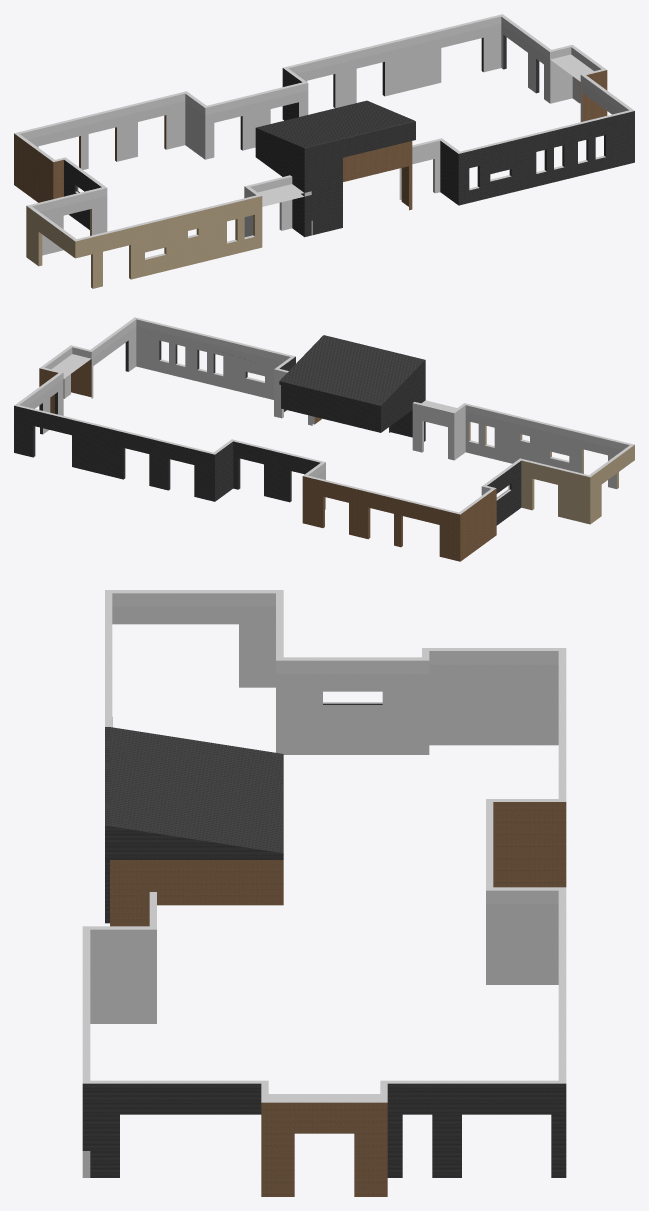
Rendered from Obvodovy_plast_7np.obj.
3 views of the same model, one above another, from view 1: azimuth 30°, elevation 25°; view 2: azimuth 150°, elevation 25°; view 3: azimuth 270°, elevation 25° (orthographic). The views are drawn at different scales.
Parts seen in each view (by area): view 1: Obvodovy_plast_7np; view 2: Obvodovy_plast_7np; view 3: Obvodovy_plast_7np.
Boxes of the visible parts, x1=… form: Obvodovy_plast_7np: x1=14, y1=14, x2=634, y2=288; Obvodovy_plast_7np: x1=14, y1=317, x2=634, y2=561; Obvodovy_plast_7np: x1=82, y1=590, x2=566, y2=1196.
Size of the model in its own units: 3 by 0.4422 by 1.2.
